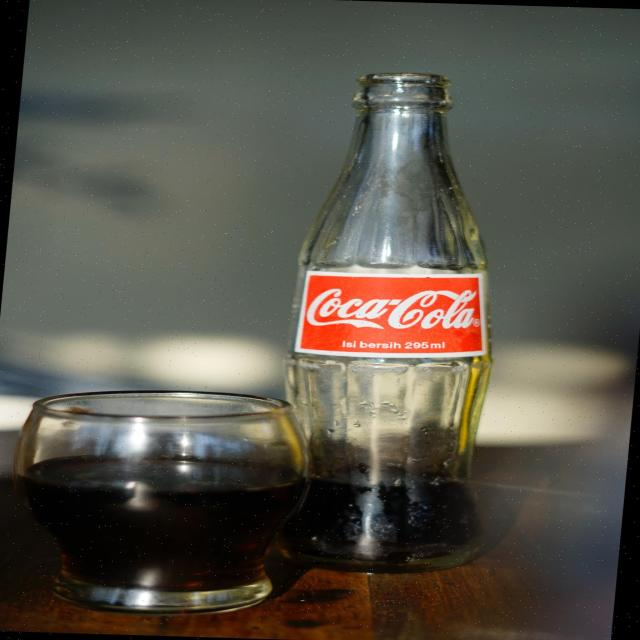coca-cola: (298, 283, 490, 338)
